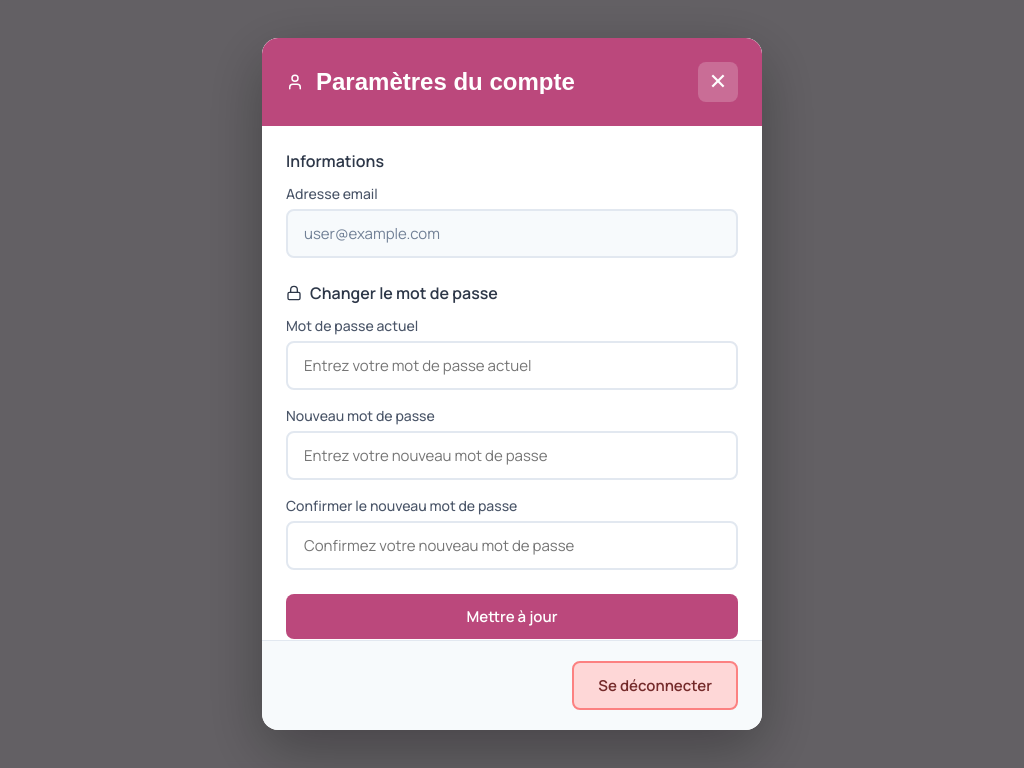
Test: AccountSettingsModal › affiche une erreur si l'API renvoie une erreur
This screenshot has width=1024, height=768.
Step 1. Type "wrongpass" into the password field labelled "Mot de passe actuel" → (512, 366), box [286,341,738,390]
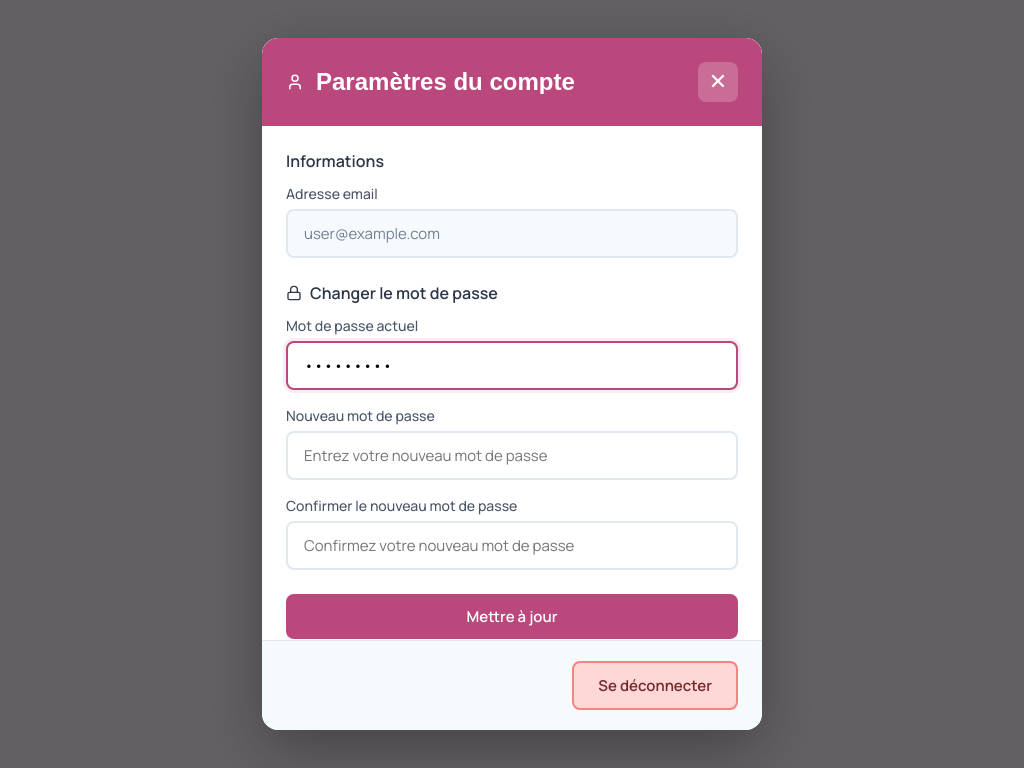
Step 2. Type "Newpass1" into the password field labelled "Nouveau mot de passe" → (512, 456), box [286,431,738,480]
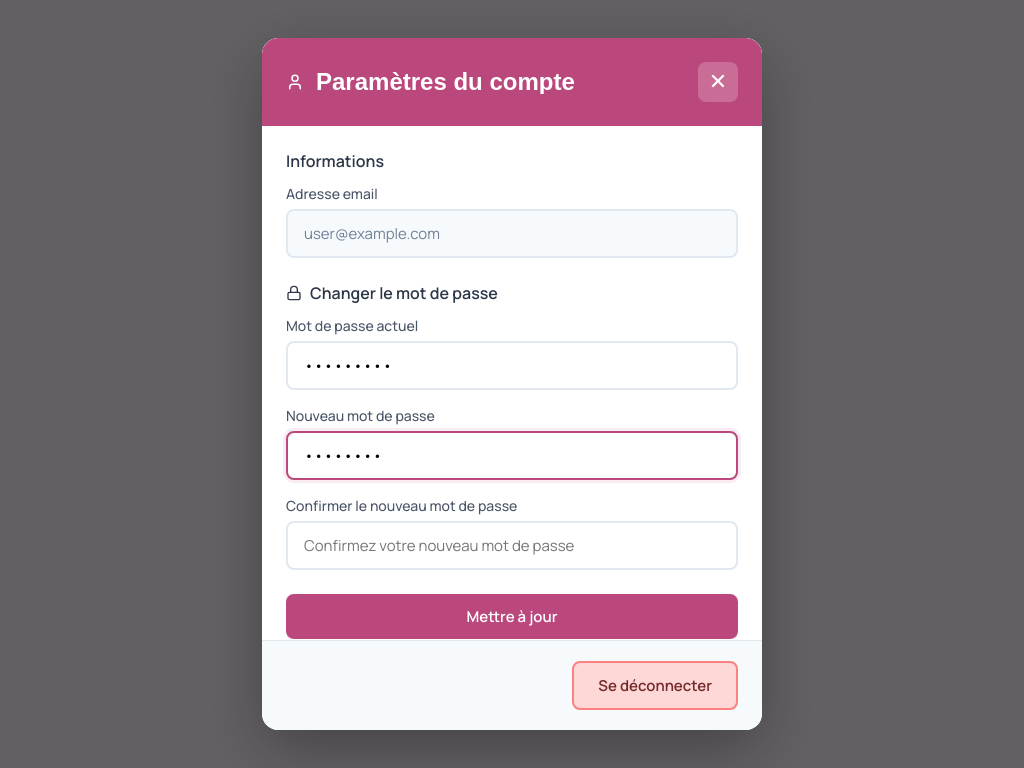
Step 3. Type "Newpass1" into the password field labelled "Confirmer le nouveau mot de passe" → (512, 546), box [286,521,738,570]
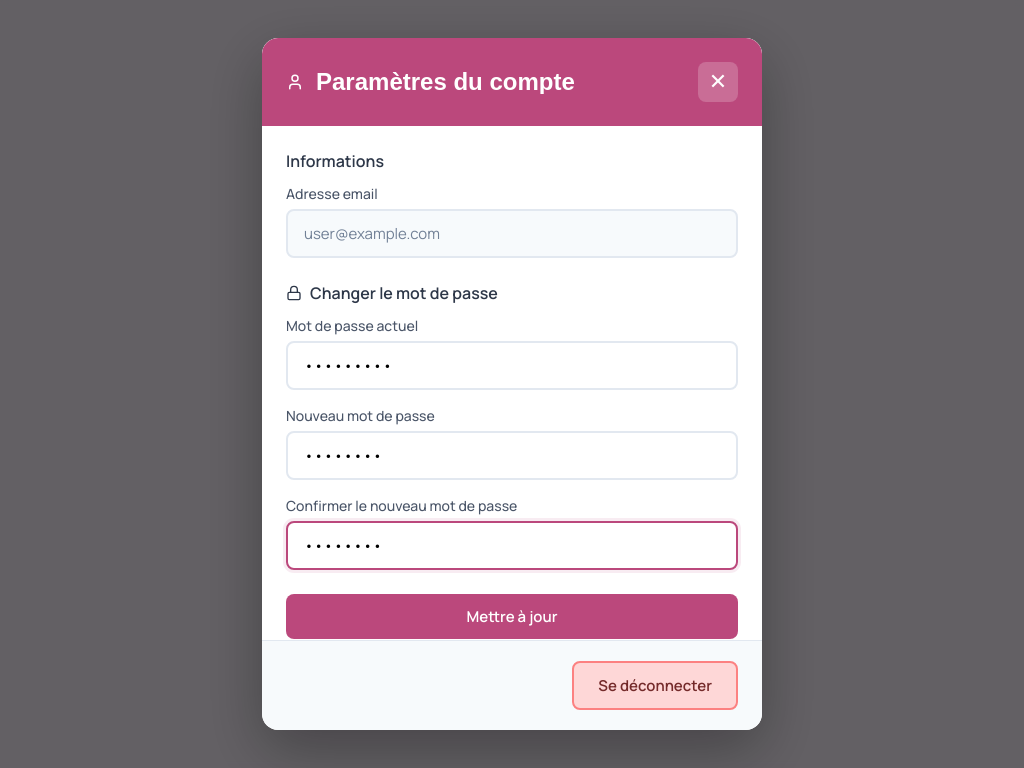
Step 4. Click the button "Mettre à jour" → (512, 617), box [286,594,738,639]
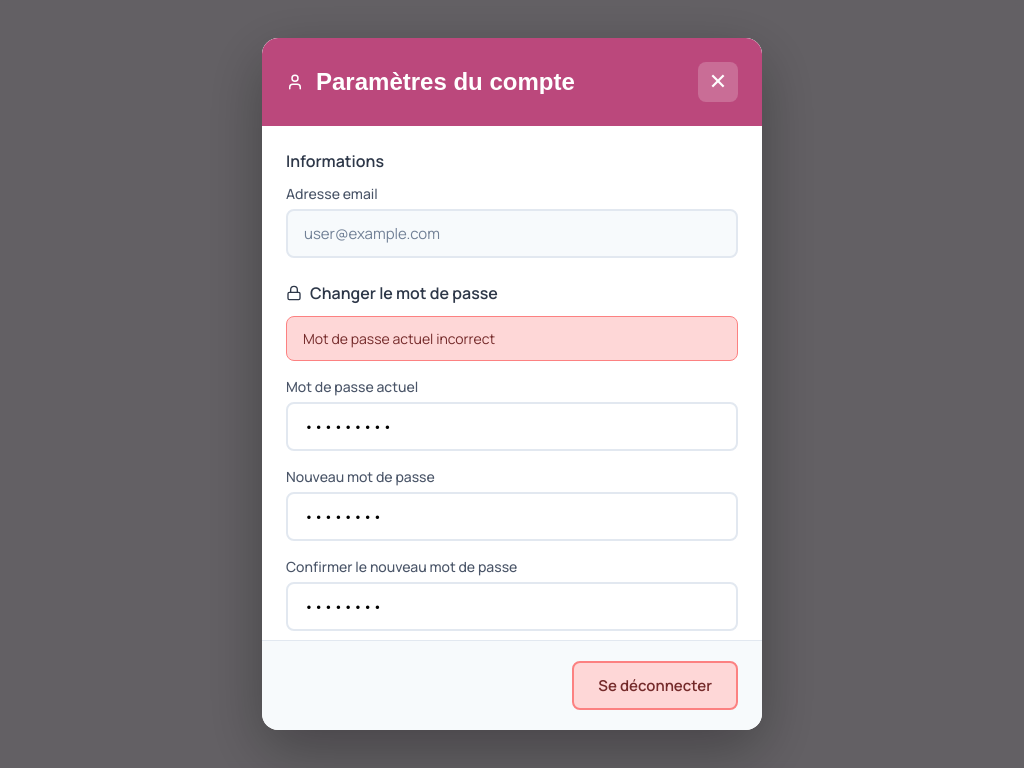
Expected: the text "Mot de passe actuel incorrect" is shown, [286,316,738,361]
